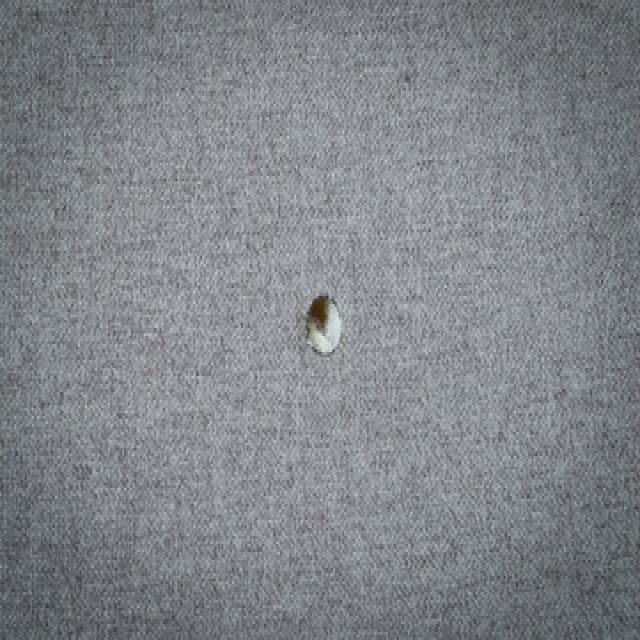Hole: (308, 296, 342, 354)
